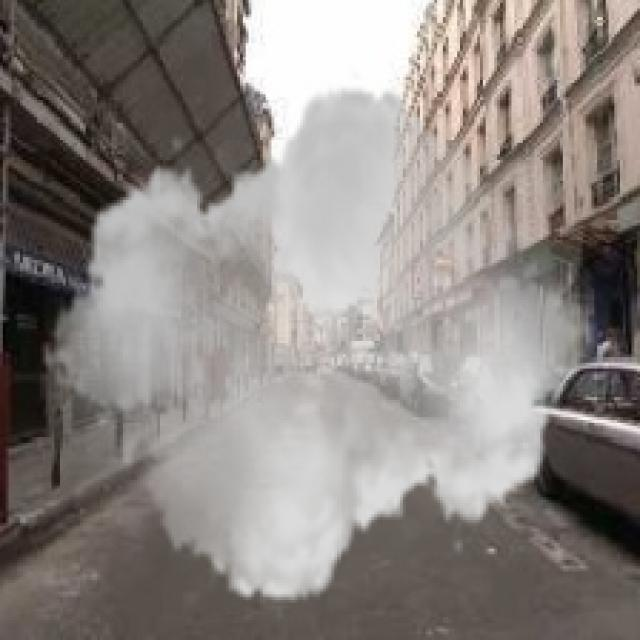Smoke: (39, 66, 594, 623)
